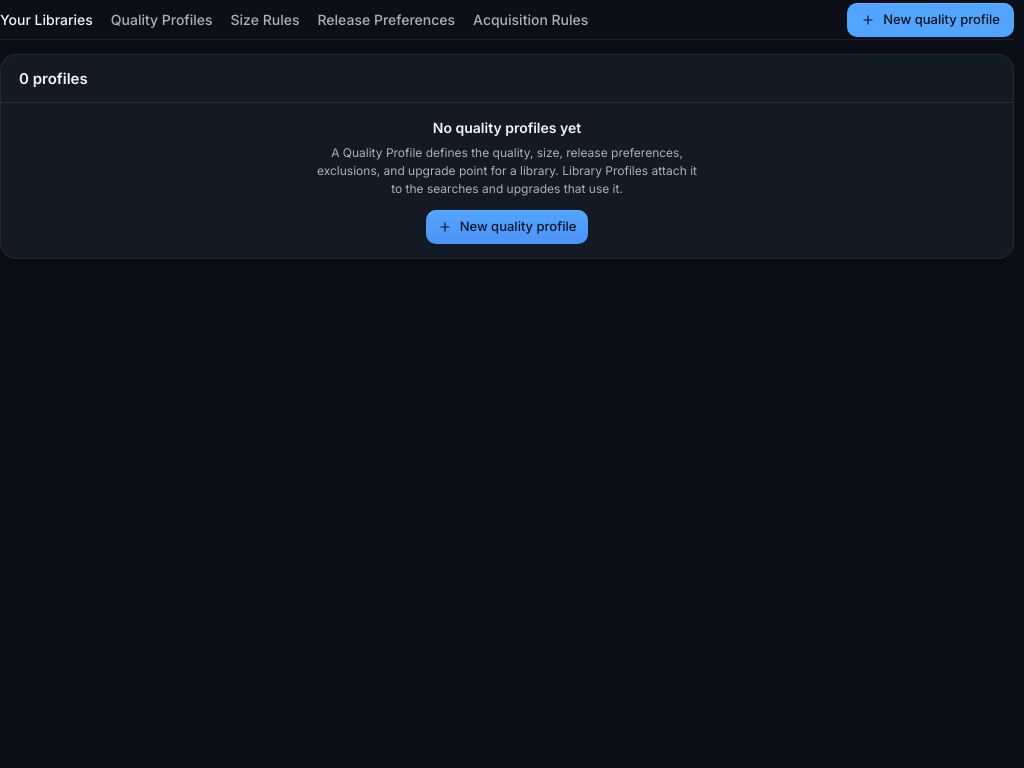
quality profile plain choices (#938) › keeps the numbers folded until Show the numbers is opened, and gives each number field a unique name
The image size is (1024, 768).
Click the button "New quality profile" in the row of "Acquisition Rules": (931,20) [847, 2, 1014, 36]
(page scrolled)
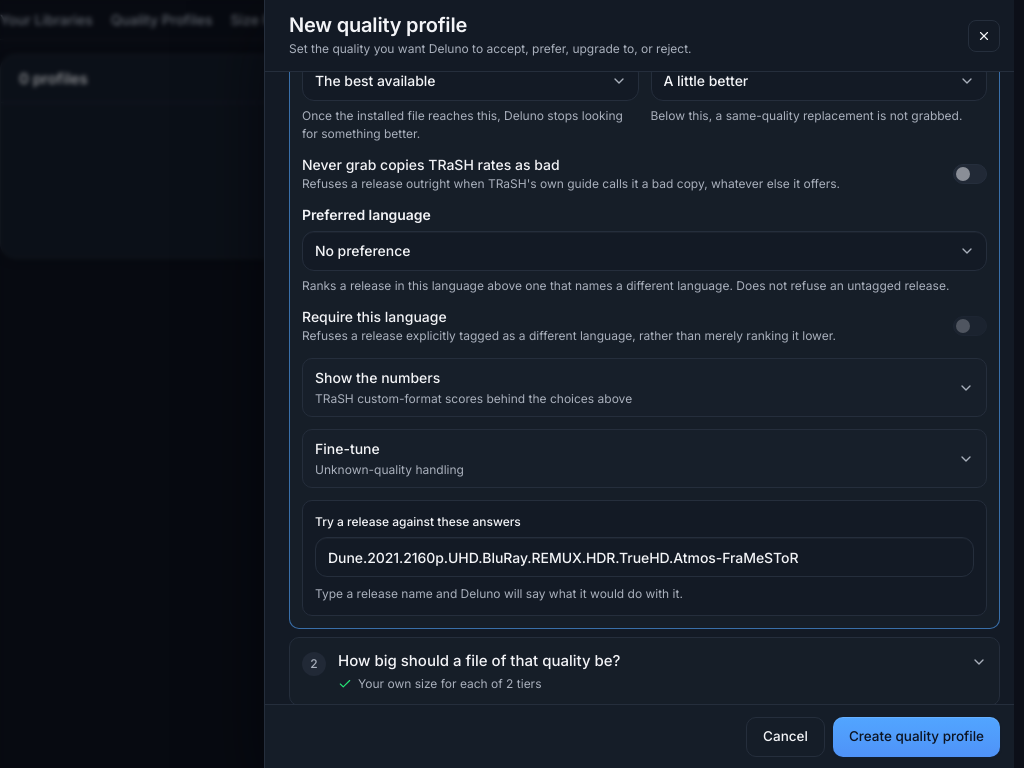
Now the dialog is shown
Click the button "Show the numbers": (378,378) [303, 359, 986, 416]
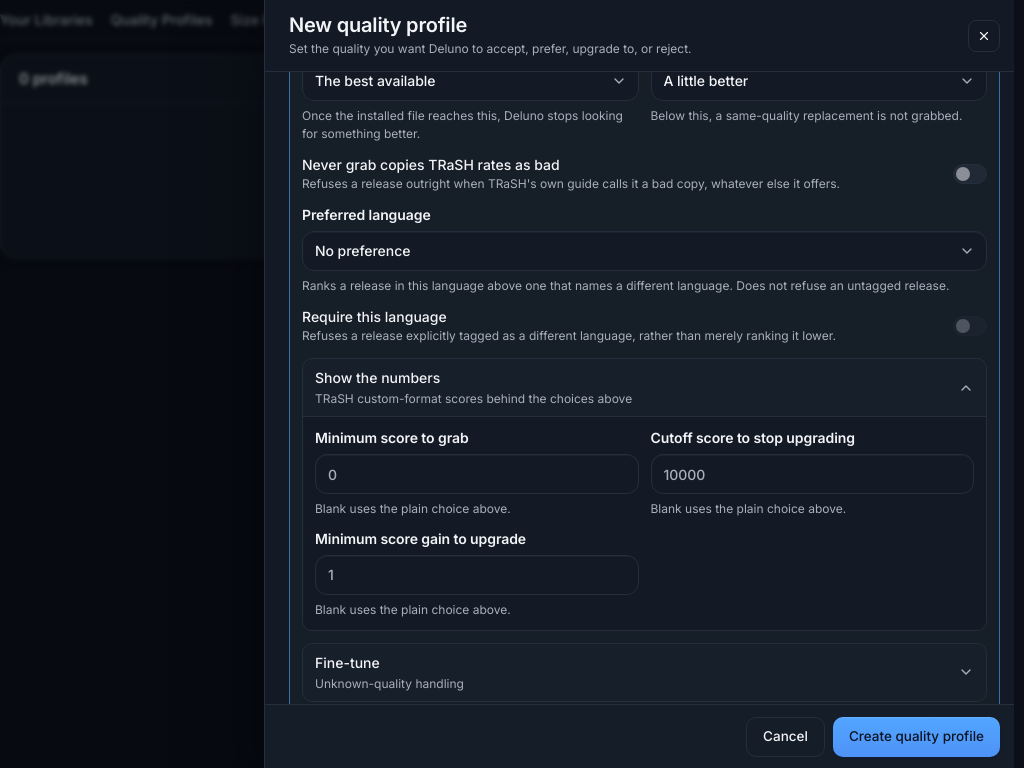
Now the number field named "Minimum custom-format score to grab" is shown, box [315, 454, 638, 494]
Now the number field named "Cutoff custom-format score to stop upgrading" is shown, box [650, 454, 974, 494]
Now the number field named "Minimum custom-format score gain required for an upgrade" is shown, box [315, 555, 638, 595]
